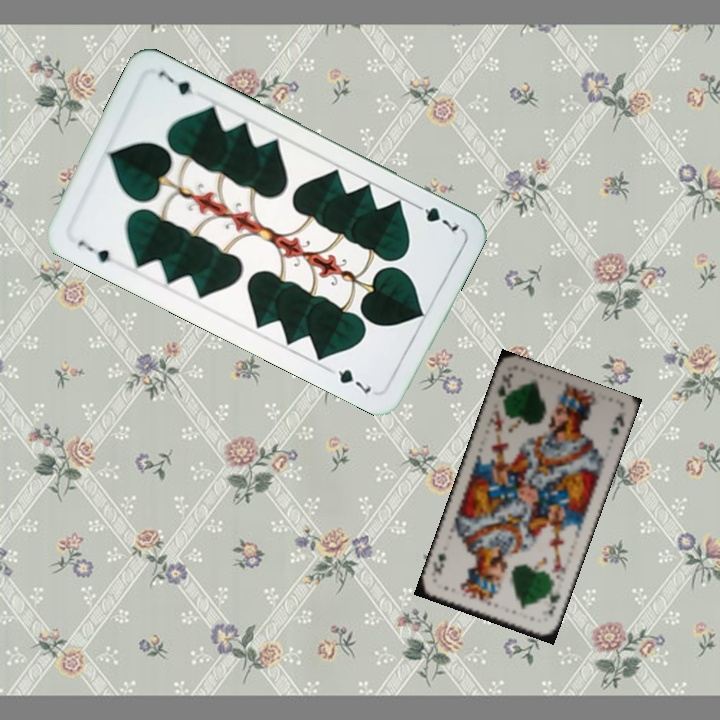G7: (408, 198, 462, 234), (73, 236, 113, 266)
GK: (493, 369, 515, 408), (544, 584, 563, 618)
